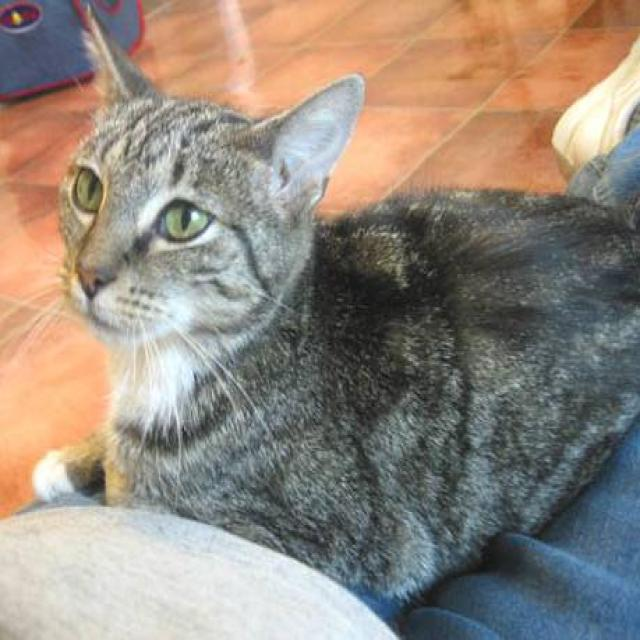cat: (7, 3, 639, 607)
